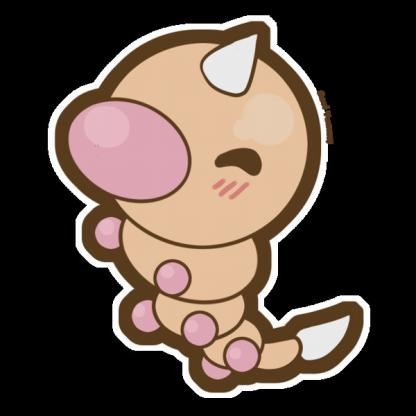Weedle: (34, 32, 381, 395)
